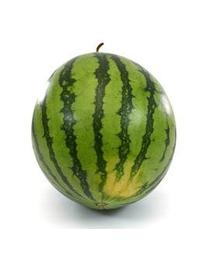watermelon: (29, 51, 178, 212)
